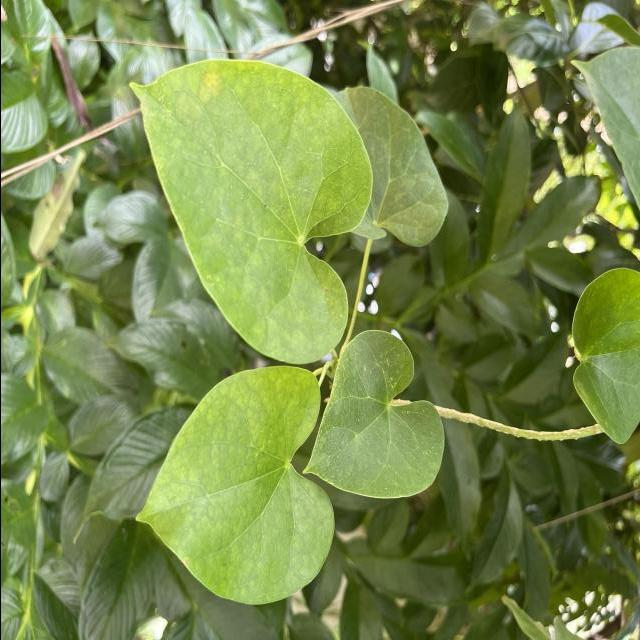Tinospora cordifolia: (124, 56, 376, 367), (129, 364, 337, 608), (298, 326, 446, 502)
